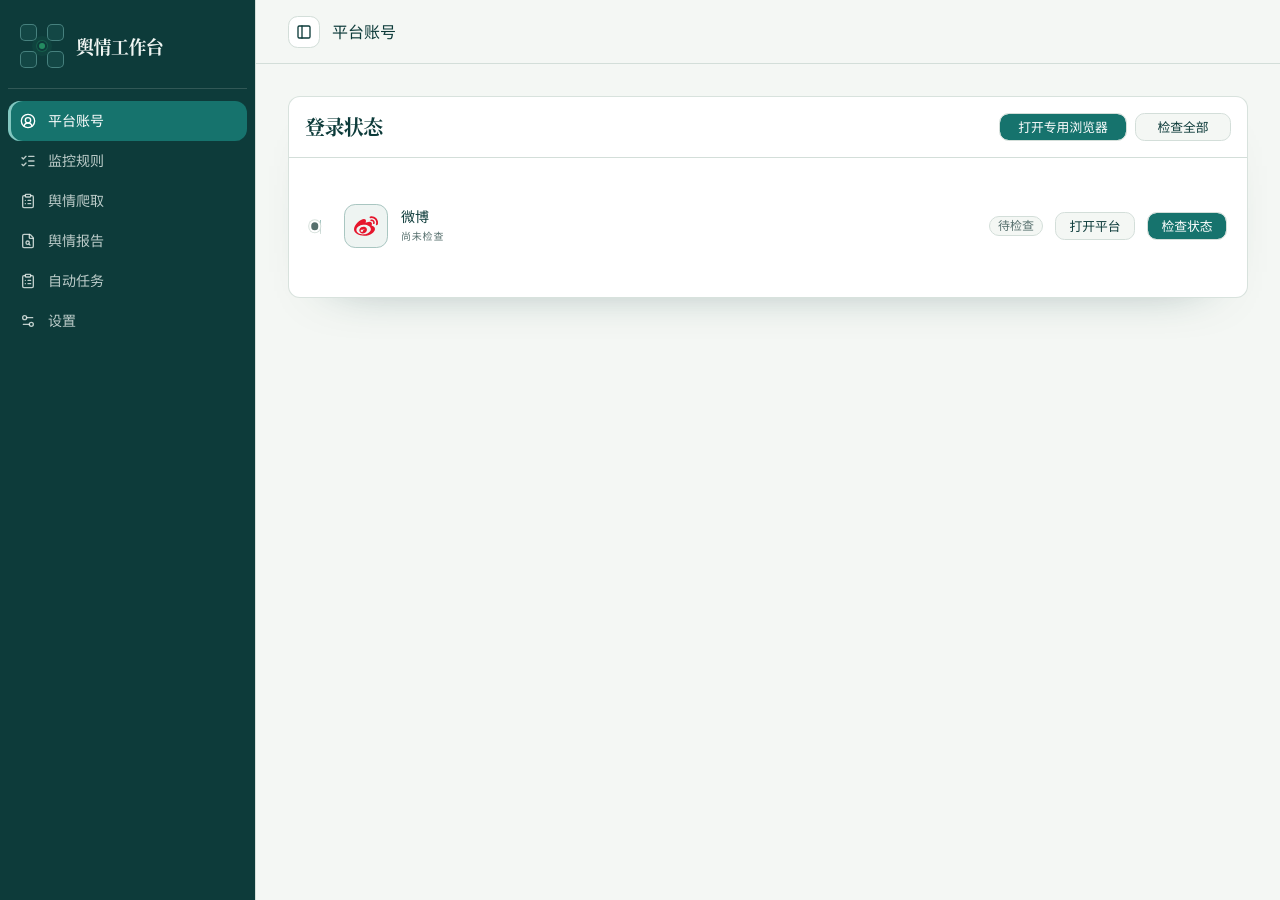
Test case: OpinionWorkbench public opinion application › preserves batch admission errors after resetting the failed mutation
Step 1. Click the button "检查全部" → (1183, 127), box [1135,113,1231,141]
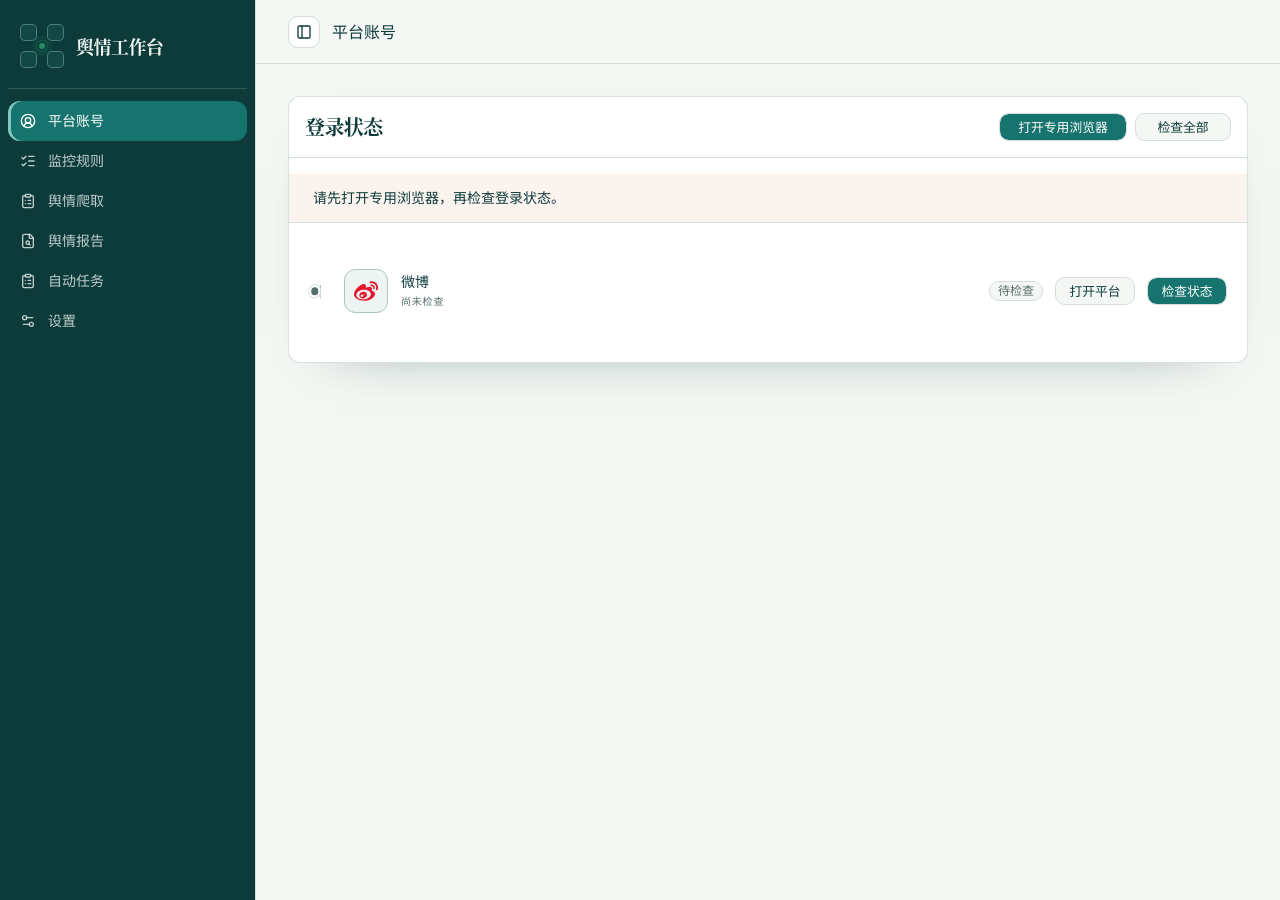
Expected: the text "请先打开专用浏览器，再检查登录状态。" is shown, [289,174,1247,223]
